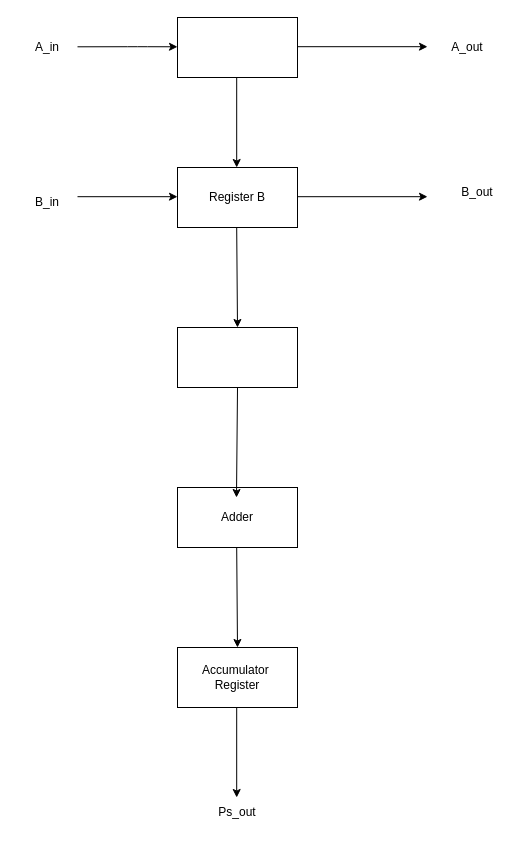
Image size: 524x845. Some labels were removed from this diagram. Each missing label, with the centre of its shape:
"Multiplier" belongs at point (237, 357).
"Register A" belongs at point (237, 47).
